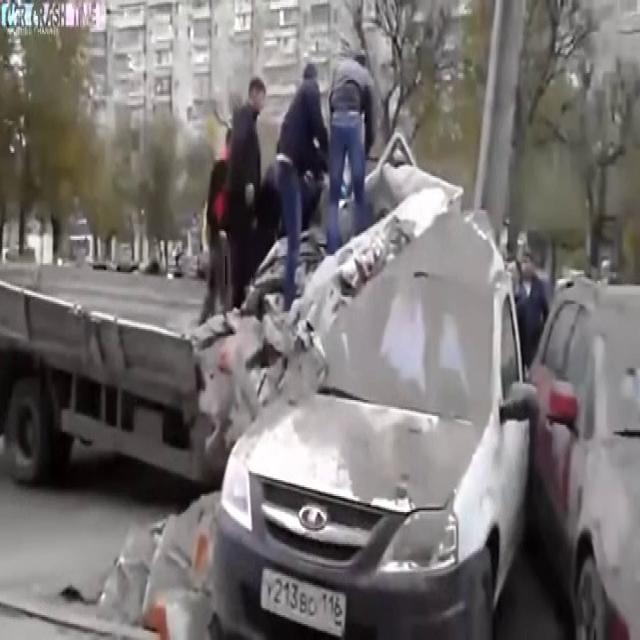accident: (155, 213, 421, 577)
